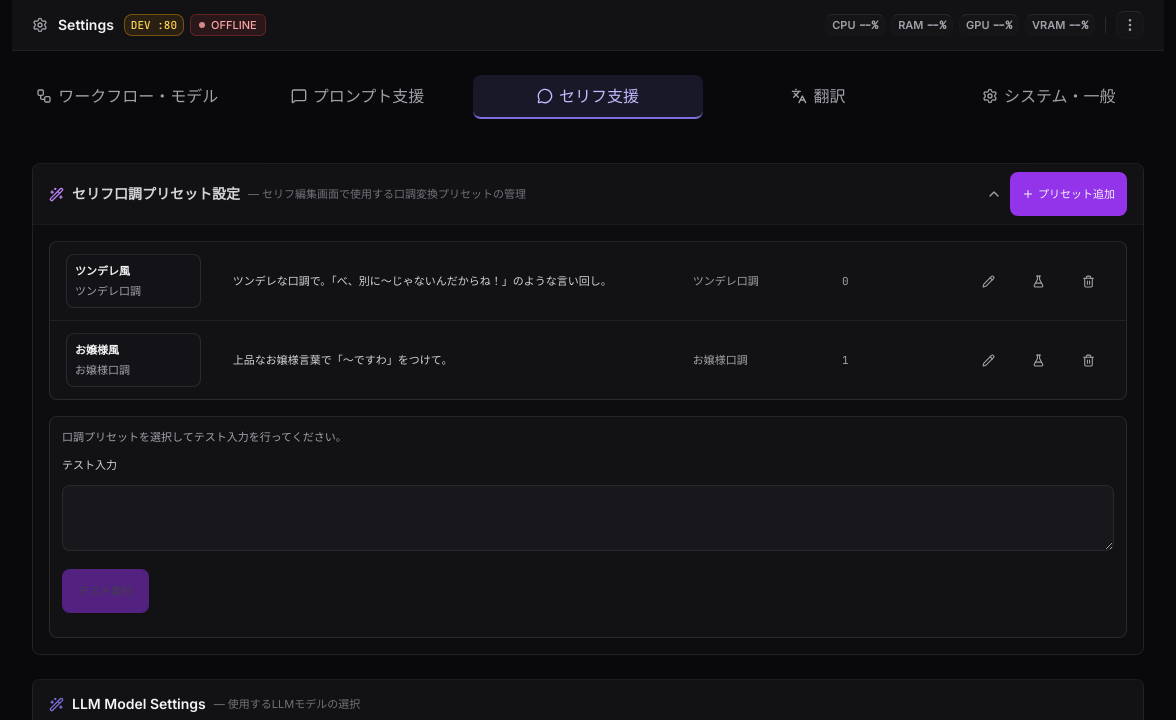
Scenario: SettingsPage Integration › Speech Tone Presets (REQ-286) › [REQ-286/AC-1] shows speech tone presets by default and allows collapsing the section
The image size is (1176, 720).
Expected: the heading "ツンデレ風" is shown, top-left (75, 264), bottom-right (130, 278)
Expected: the heading "お嬢様風" is shown, top-left (75, 343), bottom-right (119, 357)
Click the text "セリフ口調プリセット設定" at (156, 194), box top-left (72, 184), bottom-right (240, 204)
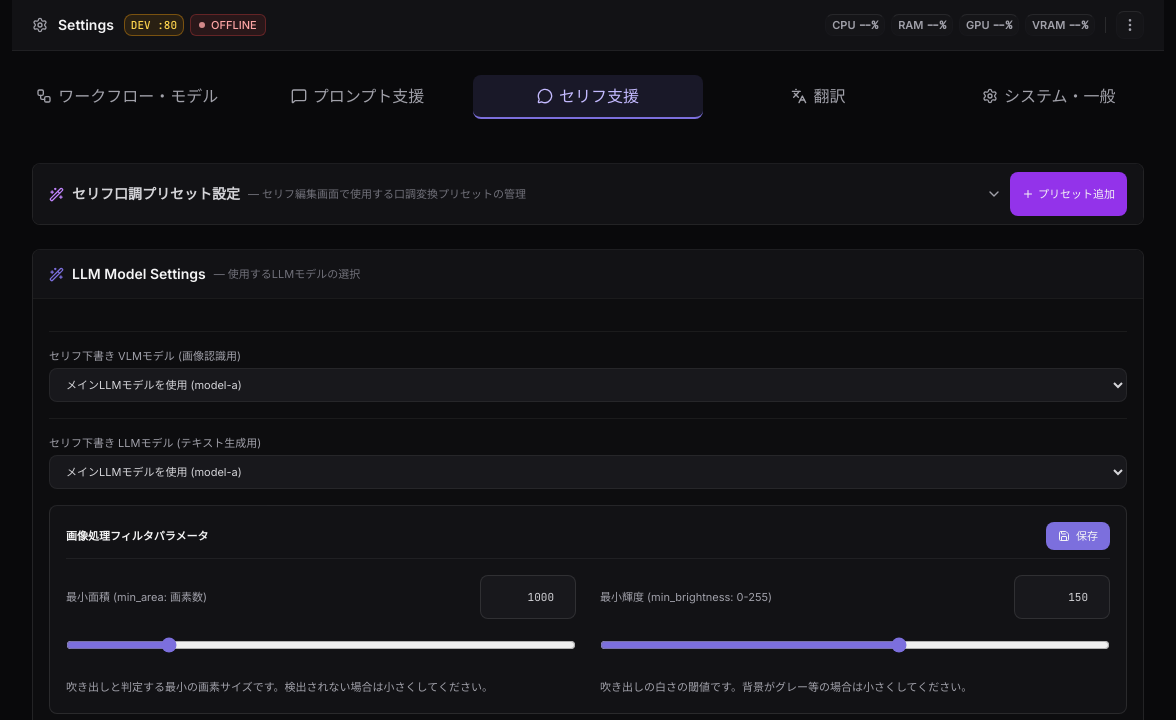
Expected: the heading "ツンデレ風" is gone
